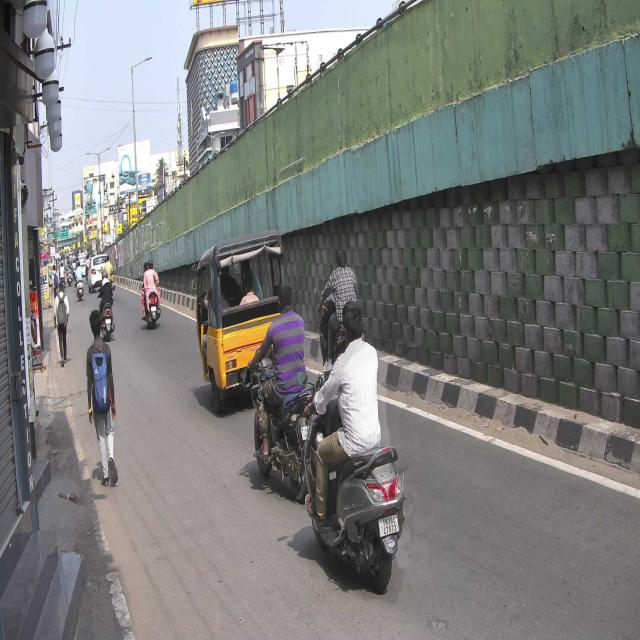single_rider: (310, 296, 408, 598), (252, 278, 309, 494)
